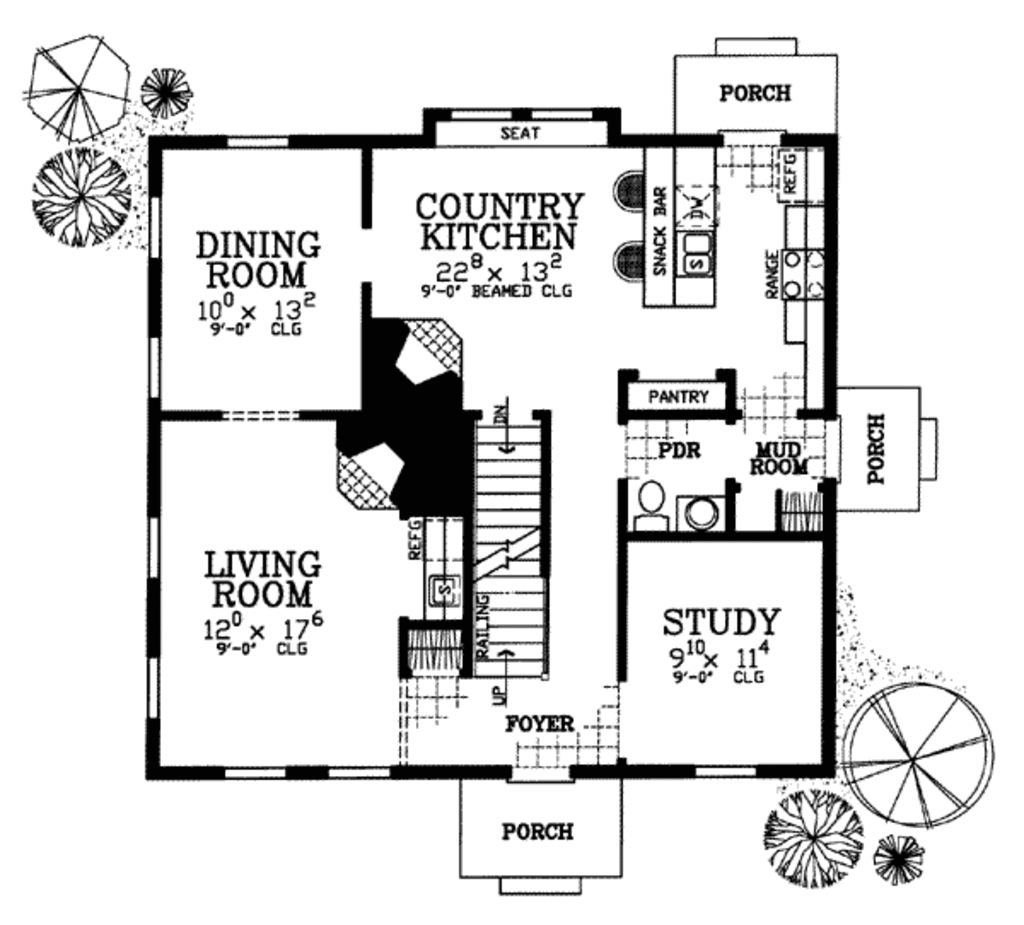kitchen_bar: (611, 139, 719, 318)
large_sink: (628, 474, 677, 537)
small_sink: (673, 490, 728, 530)
stairs: (470, 397, 561, 682)
windows: (212, 126, 295, 156), (144, 187, 173, 265), (142, 330, 170, 404), (325, 761, 395, 788), (139, 512, 164, 579), (690, 761, 760, 783), (219, 764, 293, 783), (143, 649, 161, 727)
